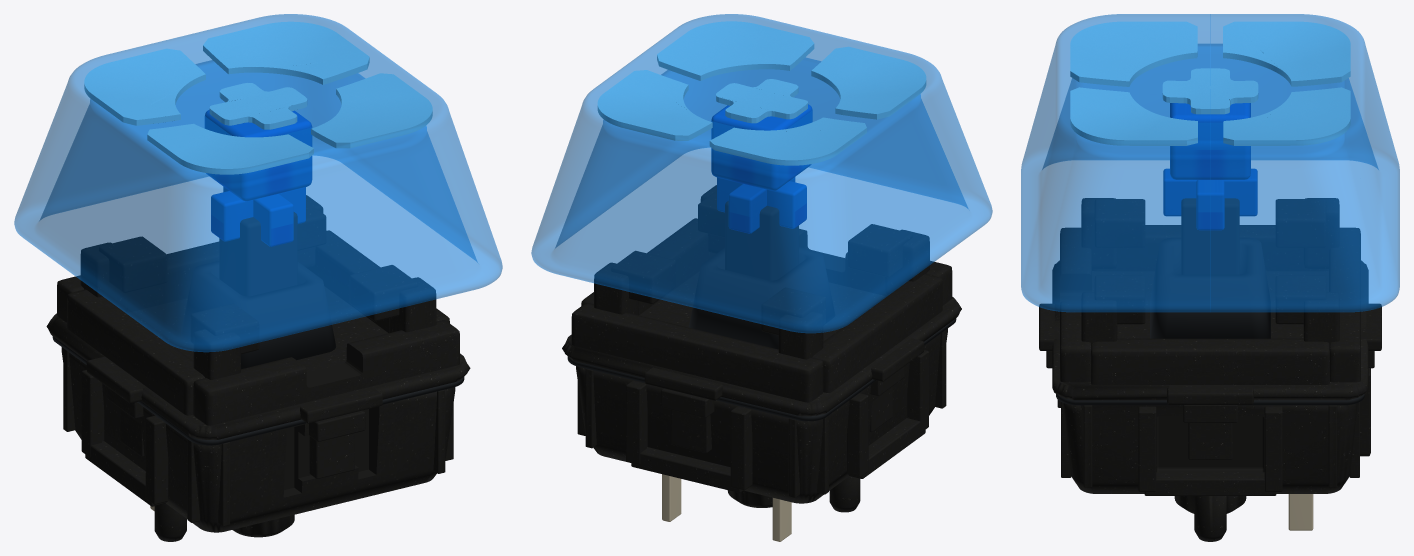
The model's file is keycap-switch.glb.
3 views of the same model, side by side, from view 1: azimuth 30°, elevation 25°; view 2: azimuth 150°, elevation 25°; view 3: azimuth 270°, elevation 25° (orthographic). The views are drawn at different scales.
Parts seen in each view (by area): view 1: Keycap shell • hollow / dished crown, Switch • Graphite, Keycap • inset light plus and four corner panels, Switch • Recesses, Keycap • Cobalt blue, Switch • Cobalt blue; view 2: Keycap shell • hollow / dished crown, Switch • Graphite, Keycap • inset light plus and four corner panels, Switch • Recesses, Keycap • Cobalt blue, Switch • Cobalt blue, Switch • Contacts; view 3: Keycap shell • hollow / dished crown, Switch • Graphite, Keycap • inset light plus and four corner panels, Switch • Recesses, Keycap • Cobalt blue, Switch • Cobalt blue, Switch • Contacts.
Boxes of the visible parts, x1,y1,x2,y2 form: Keycap shell • hollow / dished crown: (14, 14, 502, 352); Switch • Graphite: (46, 195, 470, 541); Keycap • inset light plus and four corner panels: (84, 21, 432, 174); Switch • Recesses: (52, 212, 464, 445); Keycap • Cobalt blue: (204, 109, 312, 201); Switch • Cobalt blue: (211, 187, 305, 246); Keycap shell • hollow / dished crown: (531, 14, 992, 333); Switch • Graphite: (562, 185, 961, 512); Keycap • inset light plus and four corner panels: (597, 21, 926, 165); Switch • Recesses: (567, 201, 956, 421); Keycap • Cobalt blue: (711, 104, 812, 190); Switch • Cobalt blue: (717, 177, 806, 233); Switch • Contacts: (662, 474, 791, 541); Keycap shell • hollow / dished crown: (1021, 14, 1399, 312); Switch • Graphite: (1039, 198, 1381, 541); Keycap • inset light plus and four corner panels: (1070, 21, 1350, 145); Switch • Recesses: (1056, 198, 1364, 405); Keycap • Cobalt blue: (1170, 103, 1250, 179); Switch • Cobalt blue: (1163, 168, 1257, 230); Switch • Contacts: (1288, 494, 1313, 530).
Size of the model in its own units: 0.0201 by 0.025 by 0.0201.
6 materials, 4 textured.
